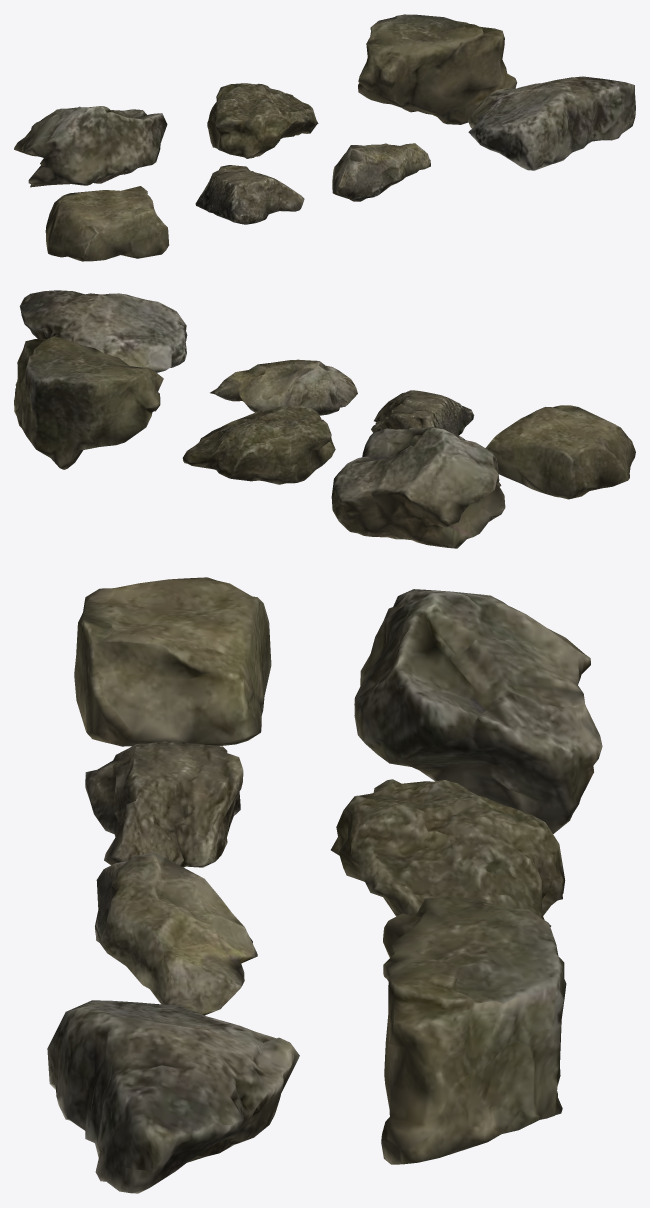
The model's file is rock_moss_set_02.glb.
3 views of the same model, one above another, from view 1: azimuth 30°, elevation 25°; view 2: azimuth 150°, elevation 25°; view 3: azimuth 270°, elevation 25° (orthographic). The views are drawn at different scales.
Visible parts, largest first — view 1: rock_moss_set_02_rock08; view 2: rock_moss_set_02_rock08; view 3: rock_moss_set_02_rock08.
Boxes of the visible parts, x1=… form: rock_moss_set_02_rock08: x1=14, y1=14, x2=635, y2=261; rock_moss_set_02_rock08: x1=14, y1=290, x2=635, y2=548; rock_moss_set_02_rock08: x1=47, y1=577, x2=602, y2=1193.
Bounding box in the file's own units: 8.27 × 1.36 × 3.41.
1 material, 1 textured.
